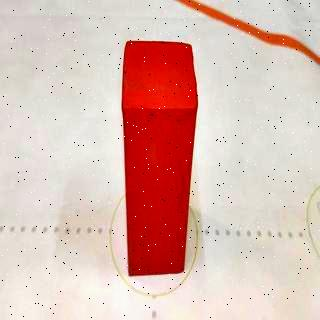redbox: (120, 39, 198, 276)
